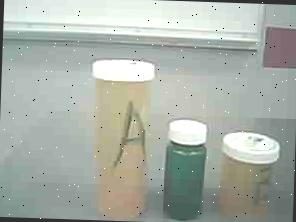Bottle A: (83, 56, 158, 222)
Bottle B: (214, 128, 284, 222)
Bottle C: (162, 115, 211, 222)
